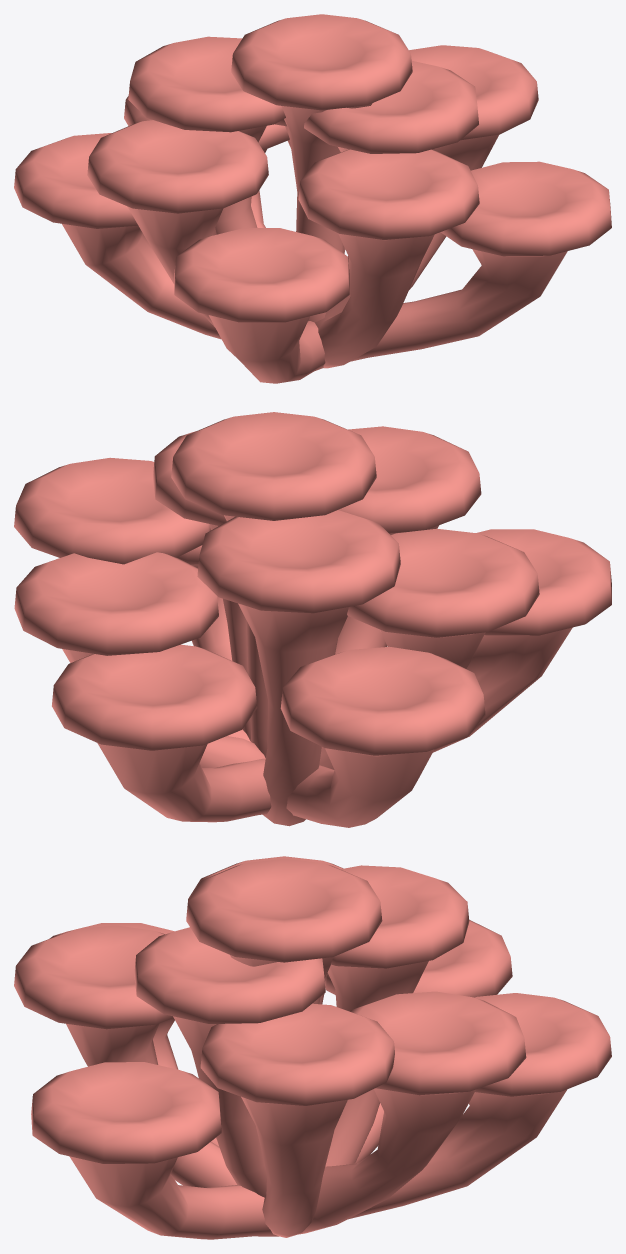
Rendered from mashroom.fbx.
3 views of the same model, one above another, from view 1: azimuth 30°, elevation 25°; view 2: azimuth 150°, elevation 25°; view 3: azimuth 270°, elevation 25° (orthographic). The views are drawn at different scales.
Parts seen in each view (by area): view 1: Cylinder.005, Cylinder.008, Cylinder.010, Cylinder.002, Cylinder.001, Cylinder.004, Cylinder.003, Cylinder.009, Cylinder.007, Cylinder.006; view 2: Cylinder.003, Cylinder.006, Cylinder.004, Cylinder.002, Cylinder.011, Cylinder.001, Cylinder.007, Cylinder.010, Cylinder.005, Cylinder.009, Cylinder.008; view 3: Cylinder.008, Cylinder.007, Cylinder.011, Cylinder.006, Cylinder.009, Cylinder.002, Cylinder.005, Cylinder.003, Cylinder.004, Cylinder.010, Cylinder.001.
Part boxes in pixels (x1,y1,x2,y2): Cylinder.005: [298, 149, 479, 368]; Cylinder.008: [350, 161, 611, 361]; Cylinder.010: [174, 228, 349, 383]; Cylinder.002: [231, 14, 412, 322]; Cylinder.001: [87, 120, 268, 326]; Cylinder.004: [14, 133, 221, 339]; Cylinder.003: [128, 36, 285, 234]; Cylinder.009: [304, 61, 478, 317]; Cylinder.007: [409, 45, 538, 289]; Cylinder.006: [124, 96, 289, 227]; Cylinder.003: [197, 510, 400, 826]; Cylinder.006: [52, 644, 271, 822]; Cylinder.004: [280, 646, 485, 827]; Cylinder.002: [171, 412, 376, 757]; Cylinder.011: [14, 552, 265, 768]; Cylinder.001: [319, 528, 539, 769]; Cylinder.007: [14, 457, 250, 741]; Cylinder.010: [433, 529, 611, 752]; Cylinder.005: [335, 426, 481, 654]; Cylinder.009: [153, 431, 251, 740]; Cylinder.008: [177, 545, 232, 660]; Cylinder.008: [31, 1062, 278, 1239]; Cylinder.007: [200, 1003, 394, 1237]; Cylinder.011: [298, 991, 526, 1234]; Cylinder.006: [348, 993, 611, 1219]; Cylinder.009: [134, 927, 325, 1197]; Cylinder.002: [186, 858, 382, 1004]; Cylinder.005: [14, 925, 236, 1187]; Cylinder.003: [325, 865, 469, 1166]; Cylinder.004: [325, 920, 512, 1162]; Cylinder.010: [49, 923, 218, 1146]; Cylinder.001: [186, 856, 343, 1004].
Size of the model in its own units: 597 by 407 by 641.
